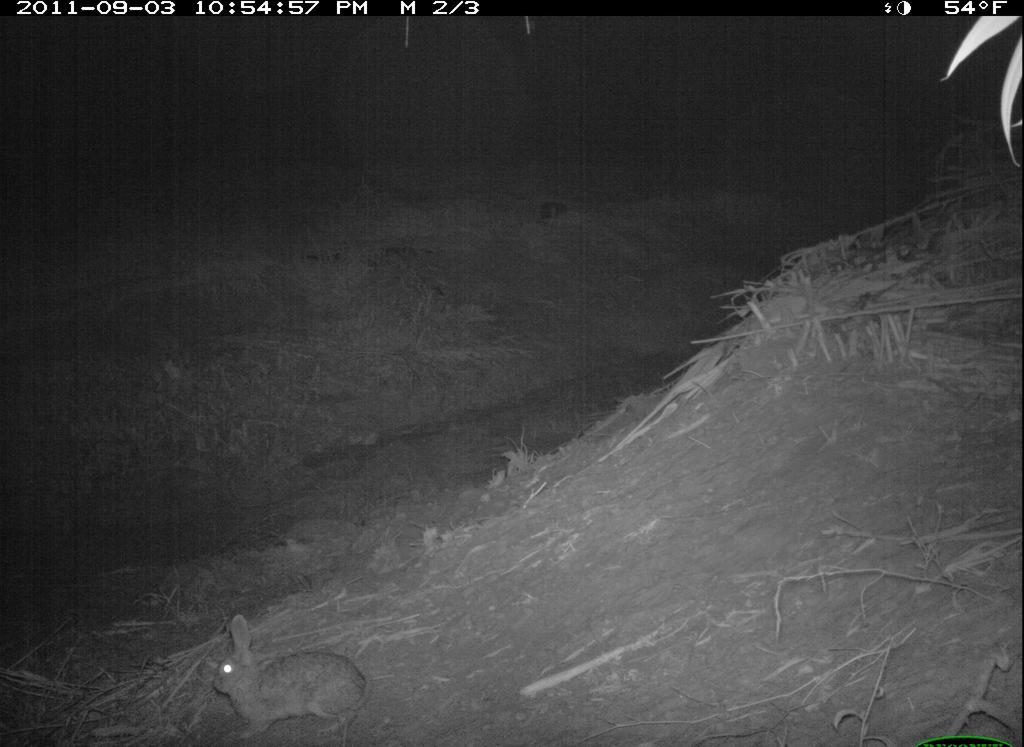rabbit: (205, 603, 379, 747)
